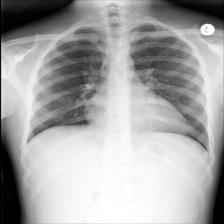normal: (21, 17, 213, 157)
